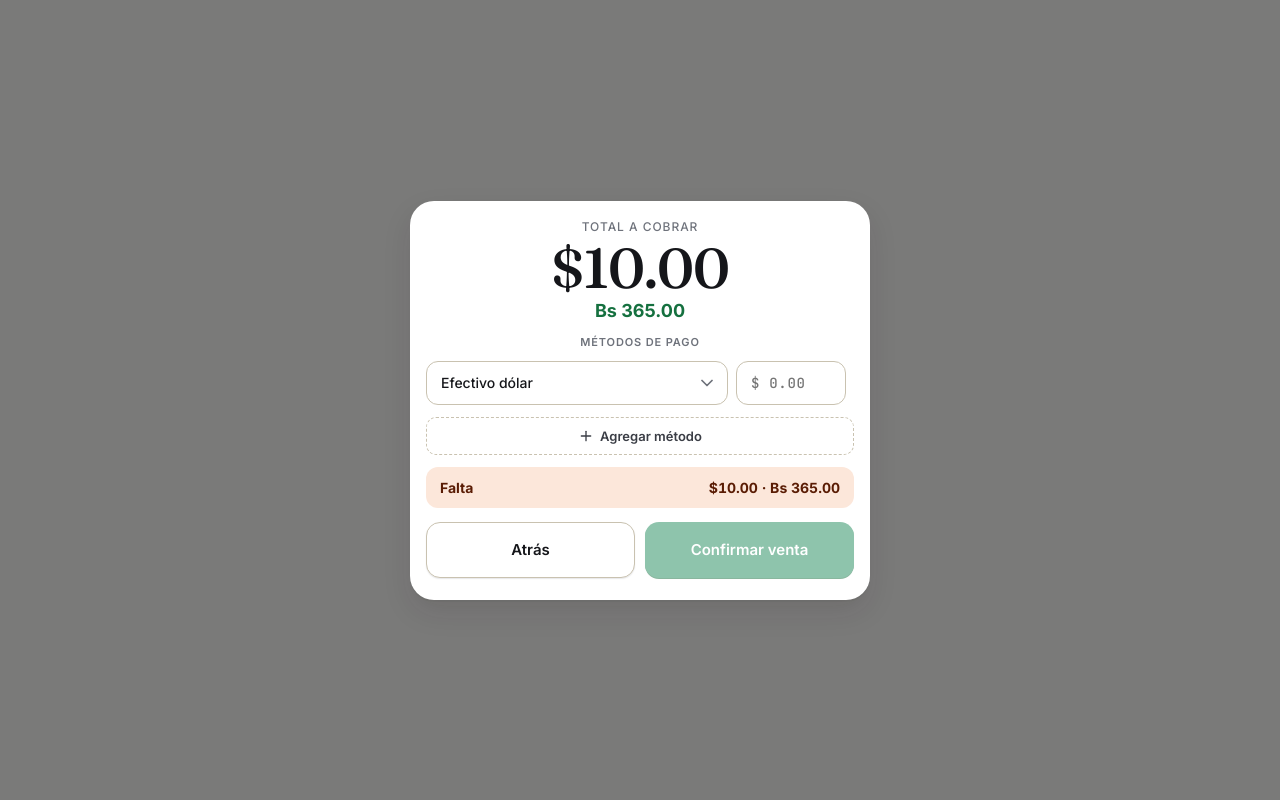
it: PaymentSheet › underpayment shows "Falta" and keeps confirm disabled
Type "4" into the field with placeholder "$ 0.00" at (791, 382), box [736,360,846,404]
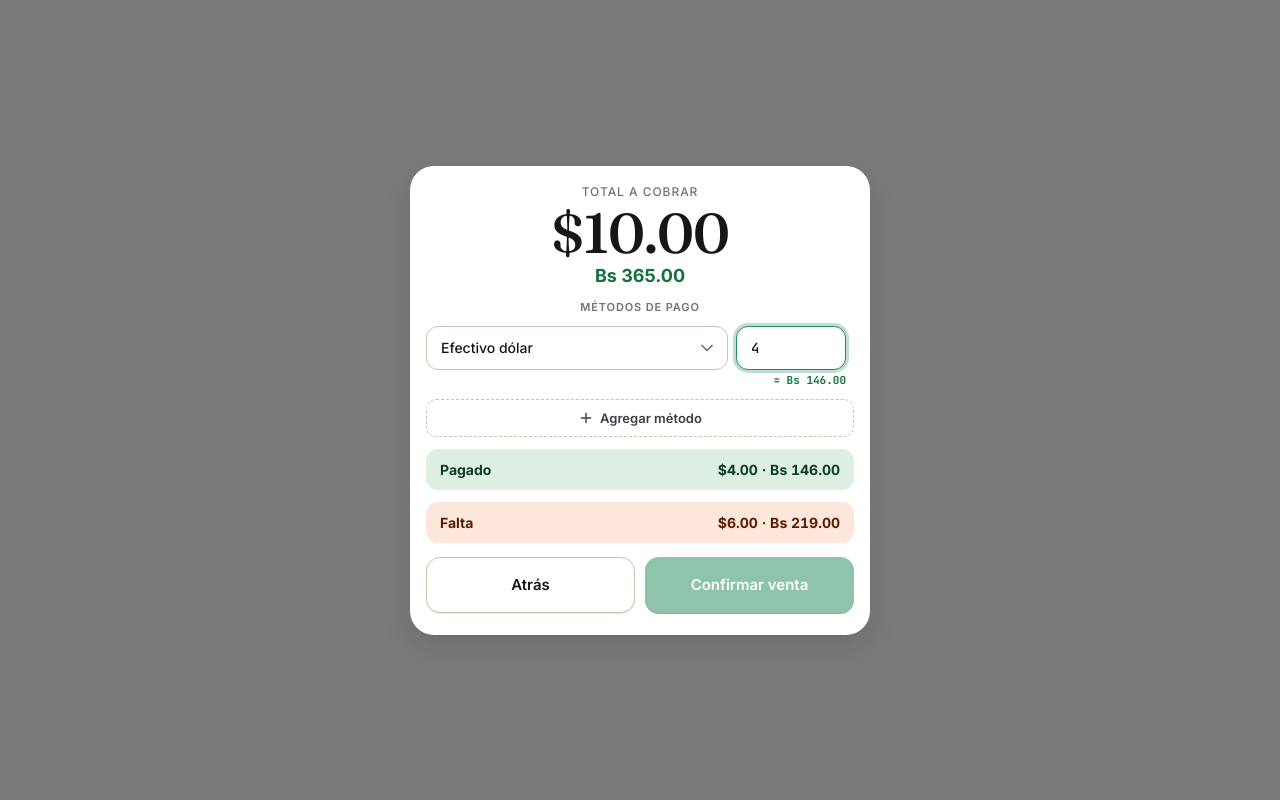
Expected: the text "Falta" is shown, [440,514,473,530]
Result: the text "$6.00 · Bs 219.00" is shown at [718,514,840,530]
